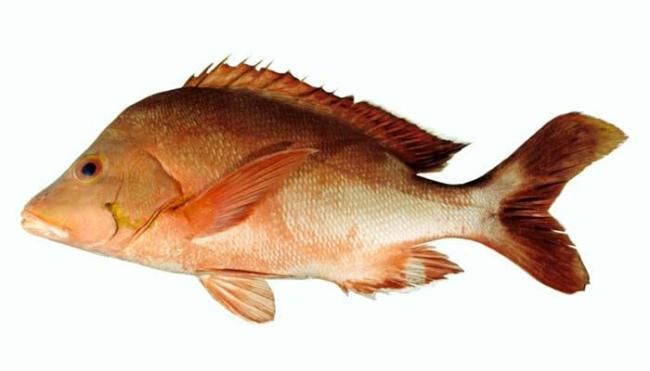fish: (19, 56, 630, 324)
